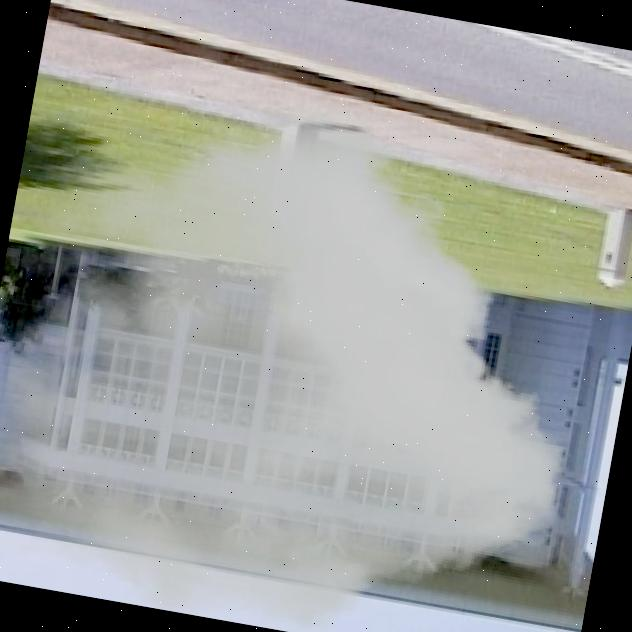smoke: (0, 65, 616, 632)
